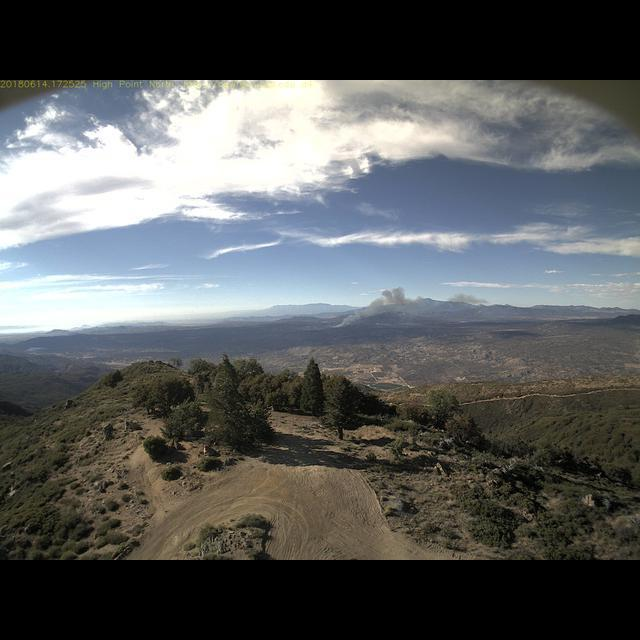Smoke: (325, 281, 484, 336)
